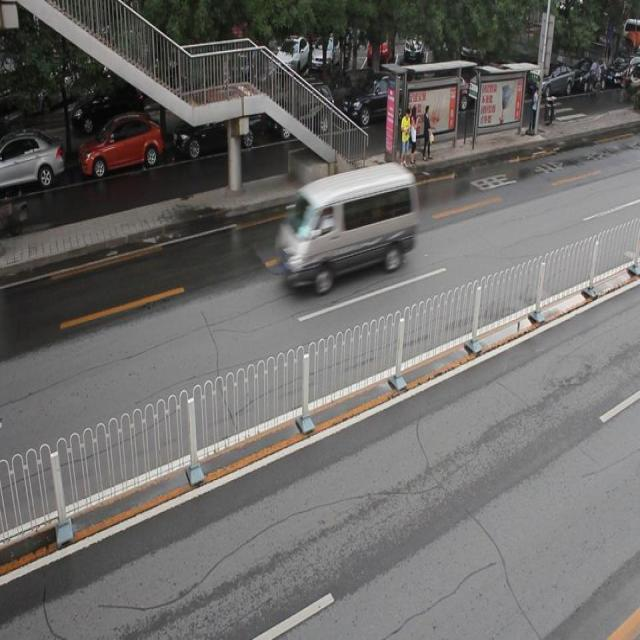car: (172, 96, 259, 160), (79, 113, 162, 180), (341, 70, 411, 128), (269, 82, 333, 140), (1, 136, 61, 195)
truck: (275, 168, 419, 287)
